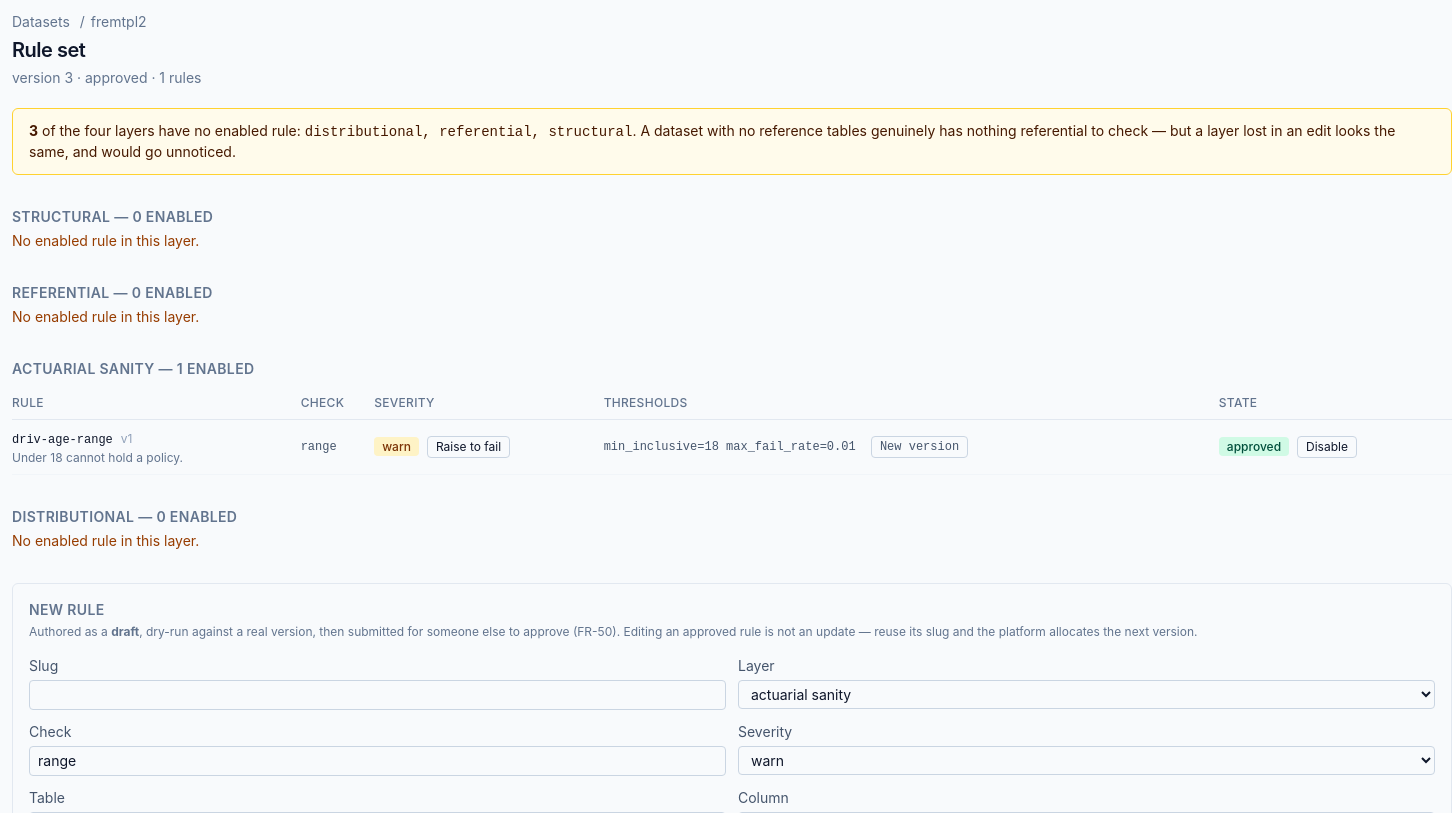
it: the rule set view › offers the next version of a rule rather than a threshold edit (FR-56)
What coordinates should you click on to do the following:
click the button "New version"
I would click on:
 (920, 447)
Its box is [871,436,968,458].
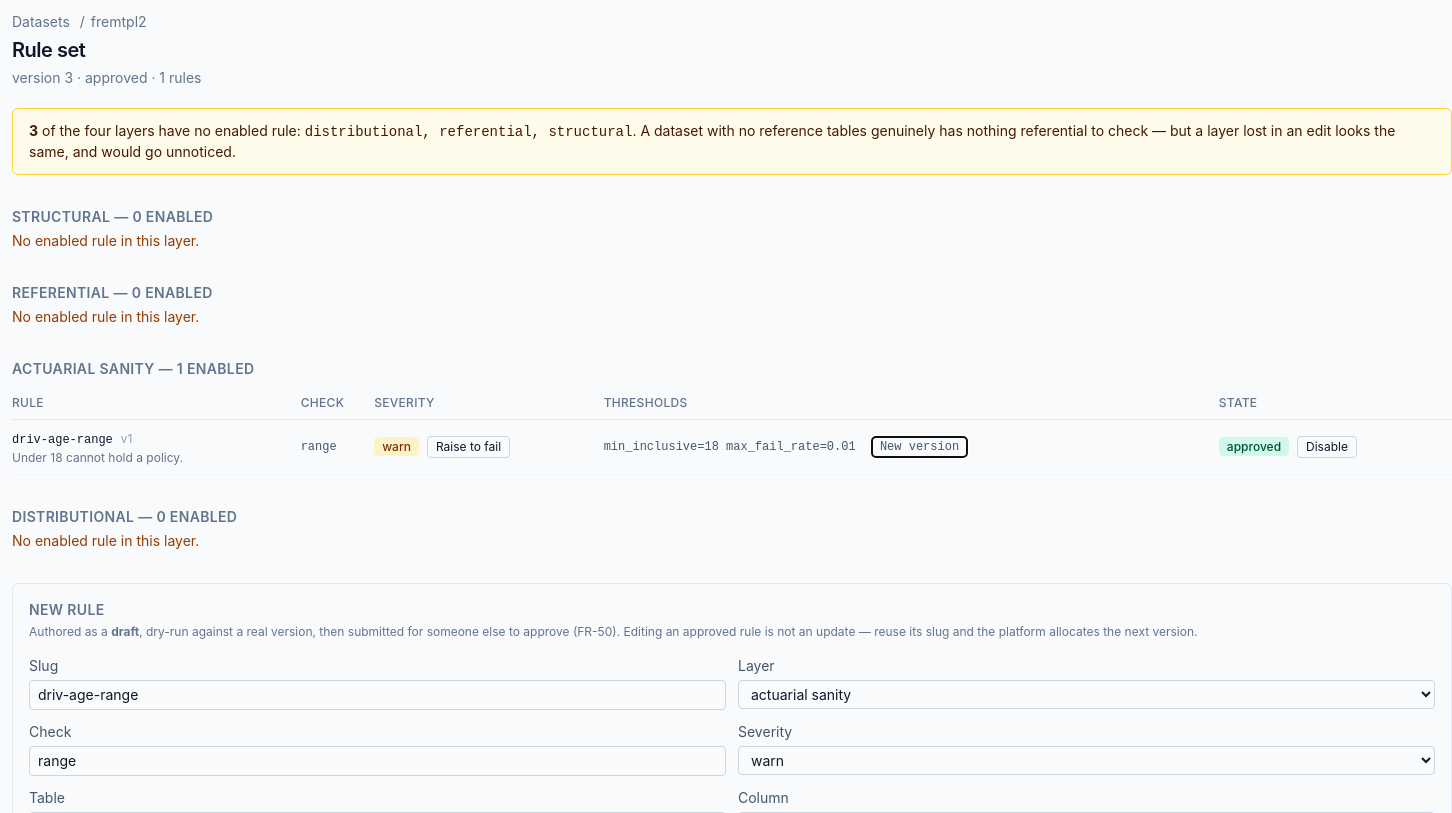
Result: the field showing "driv-age-range" is shown at [29,680,726,710]
